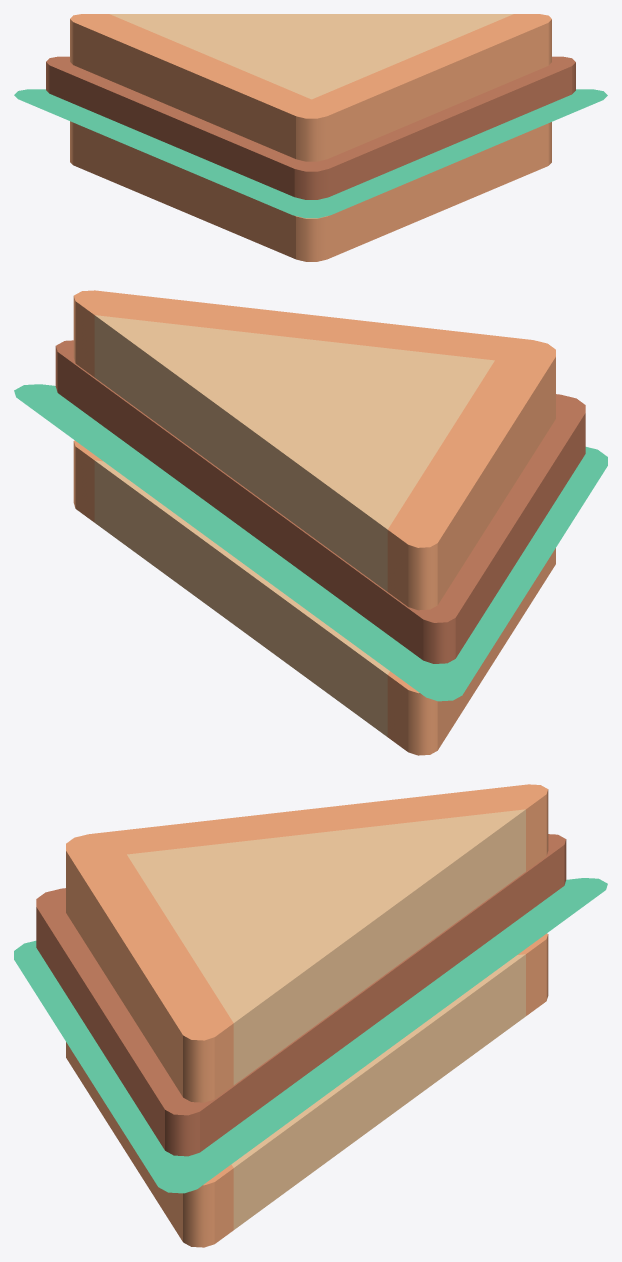
The model's file is sanduiche-natural.glb.
3 renders of one model, top to bottom at view 1: azimuth 30°, elevation 25°; view 2: azimuth 150°, elevation 25°; view 3: azimuth 270°, elevation 25°, orthographic. The views are drawn at different scales.
Visible parts, largest first — view 1: sandwich, meat, lettuce; view 2: sandwich, meat, lettuce; view 3: sandwich, meat, lettuce.
Boxes of the visible parts, <box> form: sandwich: <box>70,14,551,261</box>; meat: <box>46,56,575,199</box>; lettuce: <box>14,89,607,218</box>; sandwich: <box>73,290,555,755</box>; meat: <box>55,340,585,663</box>; lettuce: <box>14,384,607,701</box>; sandwich: <box>66,784,548,1247</box>; meat: <box>36,834,566,1156</box>; lettuce: <box>14,878,607,1193</box>.
Size of the model in its own units: 0.1724 by 0.0527 by 0.1371.
